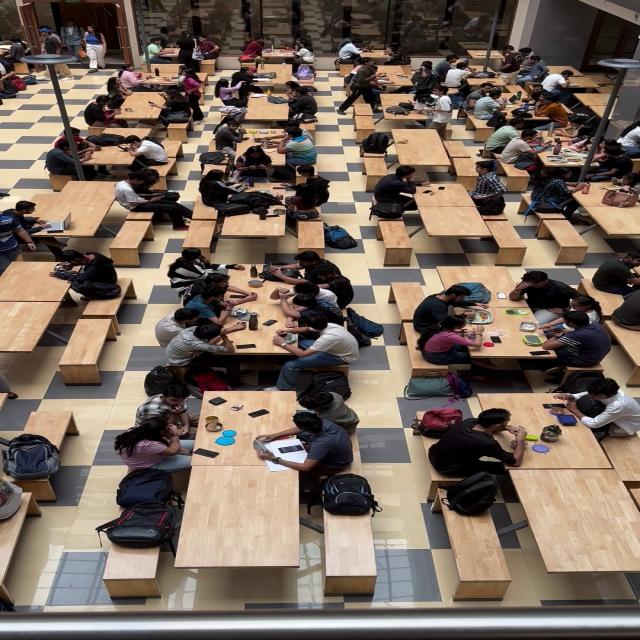Occupied: (174, 245, 384, 373), (416, 268, 615, 376), (429, 376, 640, 476), (143, 382, 365, 473), (498, 114, 640, 174), (386, 161, 517, 218), (218, 64, 336, 121), (77, 76, 217, 124), (515, 168, 640, 220), (214, 166, 337, 218), (48, 122, 169, 172), (44, 244, 134, 307), (443, 42, 558, 90), (113, 168, 199, 228), (127, 17, 228, 65), (348, 54, 446, 102), (0, 426, 60, 504), (119, 474, 182, 546), (6, 193, 80, 251), (449, 476, 509, 517), (245, 32, 324, 62), (324, 474, 383, 514), (6, 34, 38, 92), (554, 66, 599, 99), (364, 134, 405, 158), (342, 36, 375, 46)
Unoccupied: (520, 468, 640, 570), (190, 477, 304, 564), (457, 520, 515, 586), (332, 519, 378, 578), (70, 311, 109, 375), (412, 128, 466, 174), (6, 304, 51, 358), (546, 218, 600, 254), (8, 258, 52, 298), (191, 216, 281, 235), (109, 551, 158, 581), (30, 404, 78, 430), (431, 221, 495, 238), (380, 220, 416, 250), (61, 179, 108, 198), (184, 223, 214, 247), (300, 222, 326, 248), (354, 105, 376, 127), (354, 102, 362, 111)
